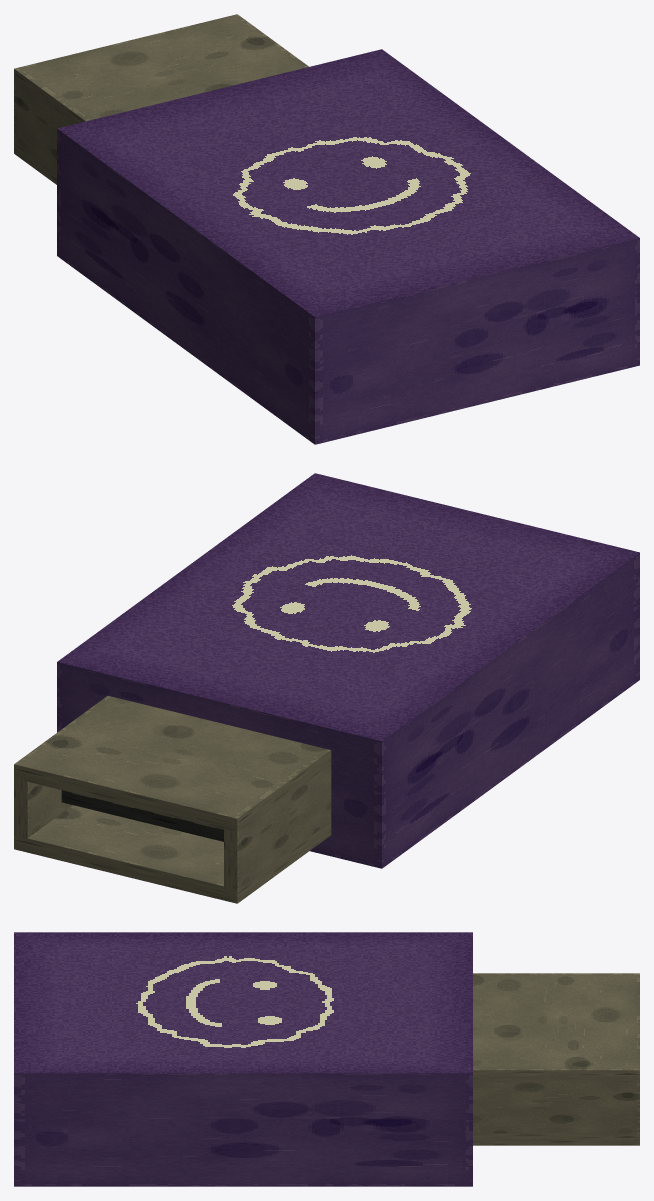
Rendered from retro_pendrive_lilas.glb.
3 views of the same model, one above another, from view 1: azimuth 30°, elevation 25°; view 2: azimuth 150°, elevation 25°; view 3: azimuth 270°, elevation 25° (orthographic). The views are drawn at different scales.
Parts seen in each view (by area): view 1: retro_pendrive_lilas; view 2: retro_pendrive_lilas; view 3: retro_pendrive_lilas.
Boxes of the visible parts, x1,y1,x2,y2 form: retro_pendrive_lilas: (14,14,639,444); retro_pendrive_lilas: (14,473,639,903); retro_pendrive_lilas: (14,932,639,1186).
Bounding box in the file's own units: 0.048 × 0.018 × 0.09.
Materials: 4 (4 with a texture image).
